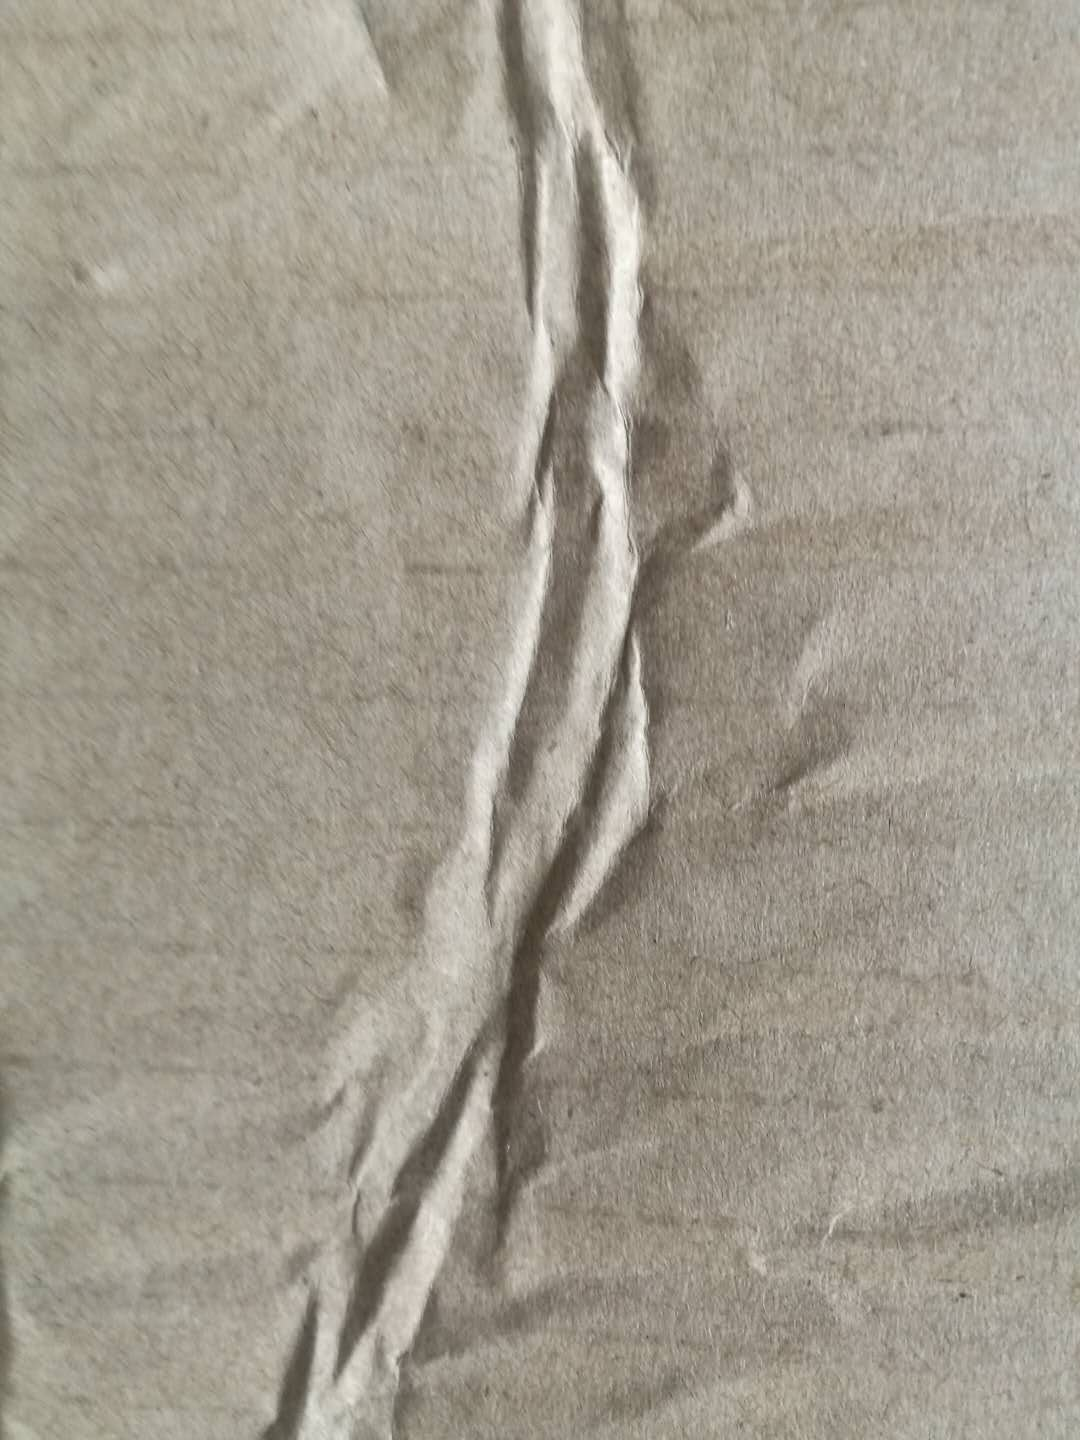defect: (2, 1, 1074, 1439)
